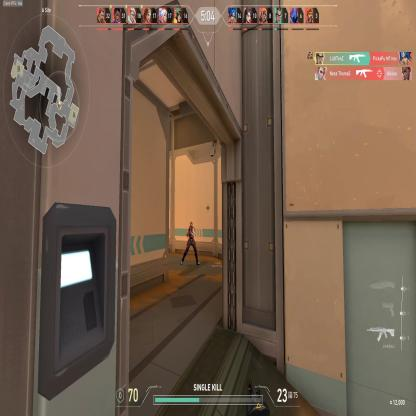enemy: (180, 220, 200, 266)
